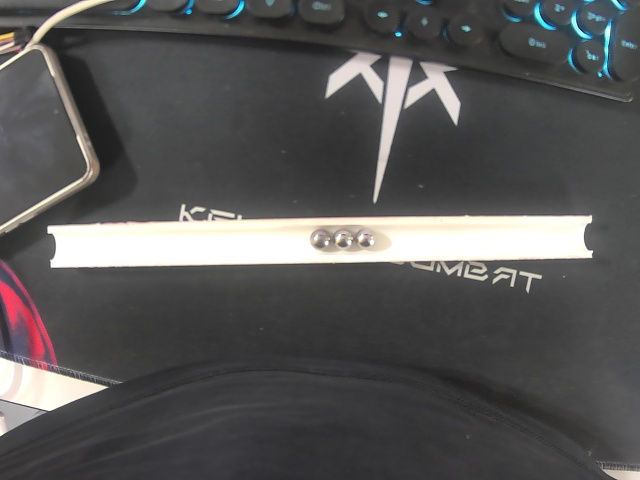steelball: (309, 226, 334, 251), (333, 227, 355, 250), (355, 228, 377, 248)
